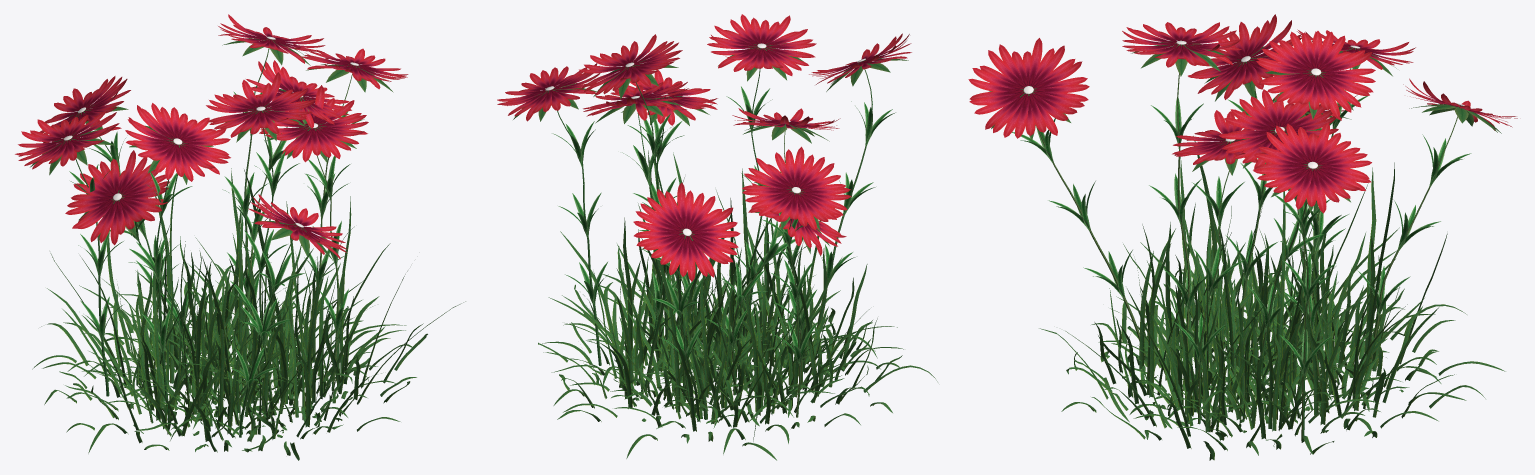
The model's file is red_flowers.glb.
3 views of the same model, side by side, from view 1: azimuth 30°, elevation 25°; view 2: azimuth 150°, elevation 25°; view 3: azimuth 270°, elevation 25° (orthographic). The views are drawn at different scales.
Parts seen in each view (by area): view 1: Aster; view 2: Aster; view 3: Aster.
Part boxes in pixels (bbox=[...]): Aster: bbox=[15, 14, 465, 460]; Aster: bbox=[497, 14, 937, 460]; Aster: bbox=[968, 14, 1517, 460].
Size of the model in its own units: 4.77 by 4.6 by 5.52.
5 materials, 5 textured.
